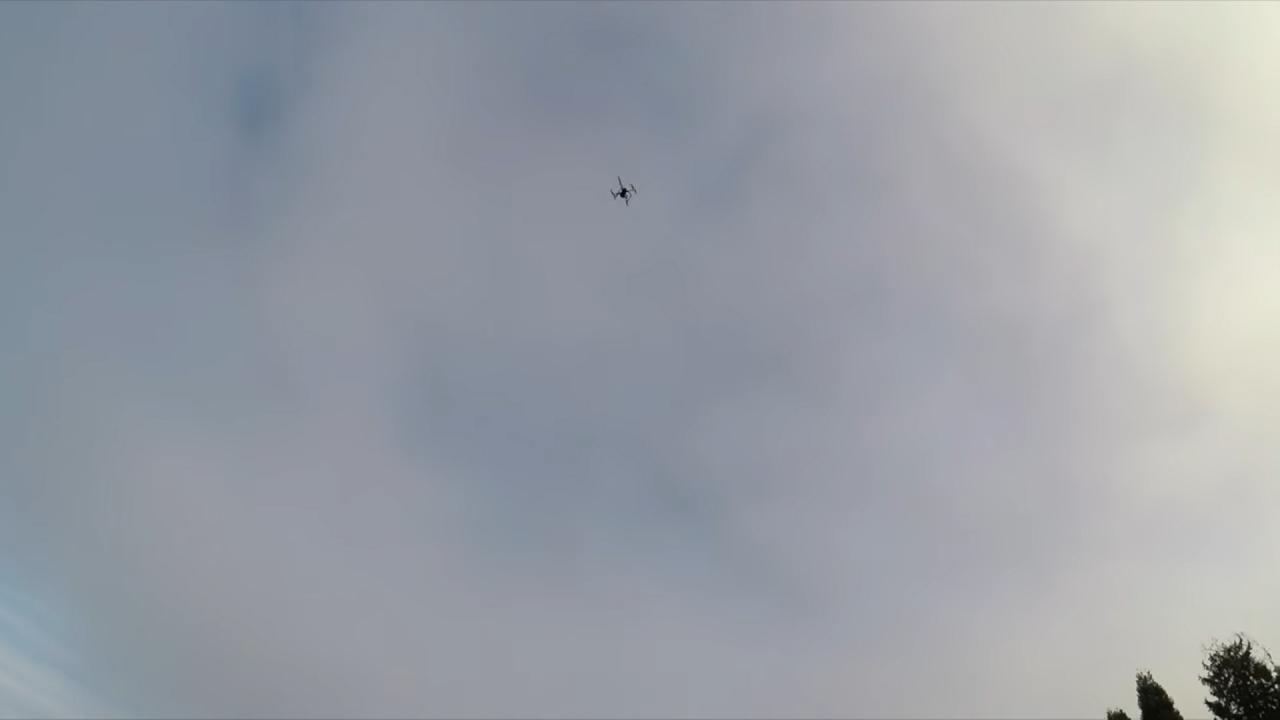Drone: (604, 169, 643, 218)
